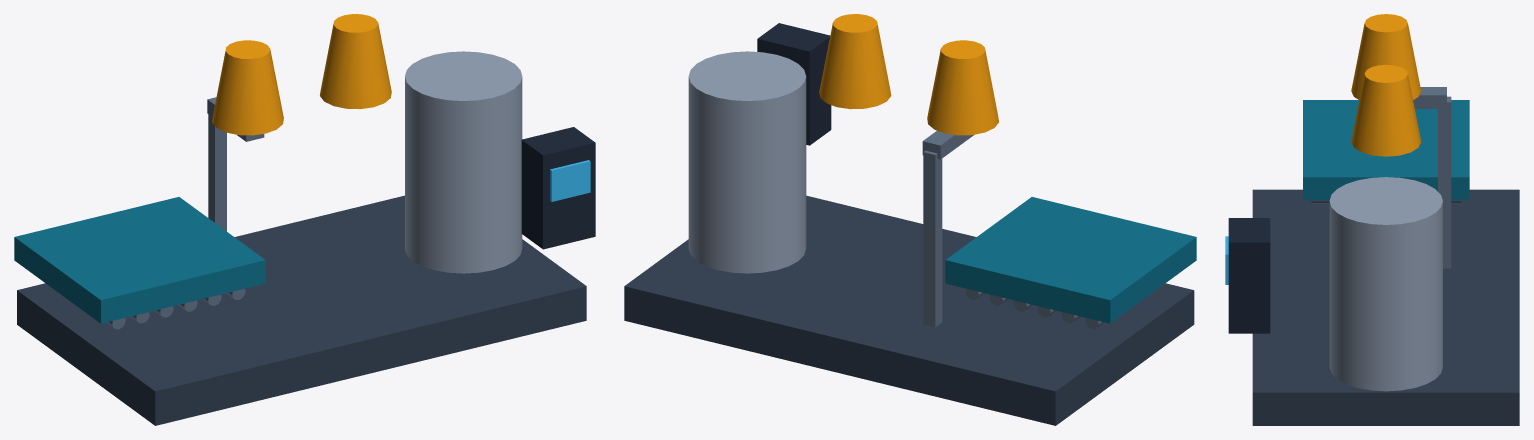
3 views of the same model, side by side, from view 1: azimuth 30°, elevation 25°; view 2: azimuth 150°, elevation 25°; view 3: azimuth 270°, elevation 25° (orthographic). The views are drawn at different scales.
Parts seen in each view (by area): view 1: support_base, carousel_3, conveyor_0, operator_console, nozzle_1, burner_2, nozzle_support_1, display; view 2: support_base, carousel_3, conveyor_0, nozzle_1, burner_2, operator_console, nozzle_support_1, nozzle_arm_1; view 3: support_base, carousel_3, conveyor_0, burner_2, operator_console, nozzle_1, nozzle_support_1, nozzle_arm_1.
Boxes of the visible parts, box(x1,y1,x2,y2) form: support_base: box(17, 195, 586, 425); carousel_3: box(405, 51, 522, 273); conveyor_0: box(14, 197, 265, 323); operator_console: box(521, 127, 595, 249); nozzle_1: box(212, 40, 283, 135); burner_2: box(320, 14, 391, 109); nozzle_support_1: box(208, 114, 226, 231); display: box(550, 160, 590, 201); support_base: box(624, 195, 1194, 425); carousel_3: box(688, 51, 806, 273); conveyor_0: box(945, 197, 1196, 323); nozzle_1: box(927, 40, 998, 135); burner_2: box(819, 14, 891, 109); operator_console: box(757, 23, 831, 145); nozzle_support_1: box(923, 150, 942, 327); nozzle_arm_1: box(922, 130, 974, 159); support_base: box(1252, 189, 1519, 425); carousel_3: box(1329, 177, 1442, 391); conveyor_0: box(1303, 100, 1469, 200); burner_2: box(1351, 64, 1421, 156); operator_console: box(1228, 218, 1270, 333); nozzle_1: box(1351, 14, 1420, 99); nozzle_support_1: box(1438, 96, 1451, 268); nozzle_arm_1: box(1413, 87, 1446, 108).
Size of the model in its own units: 3.07 by 1.82 by 1.77.
